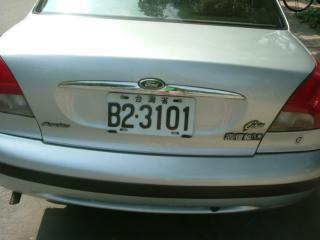plate: (104, 90, 196, 141)
